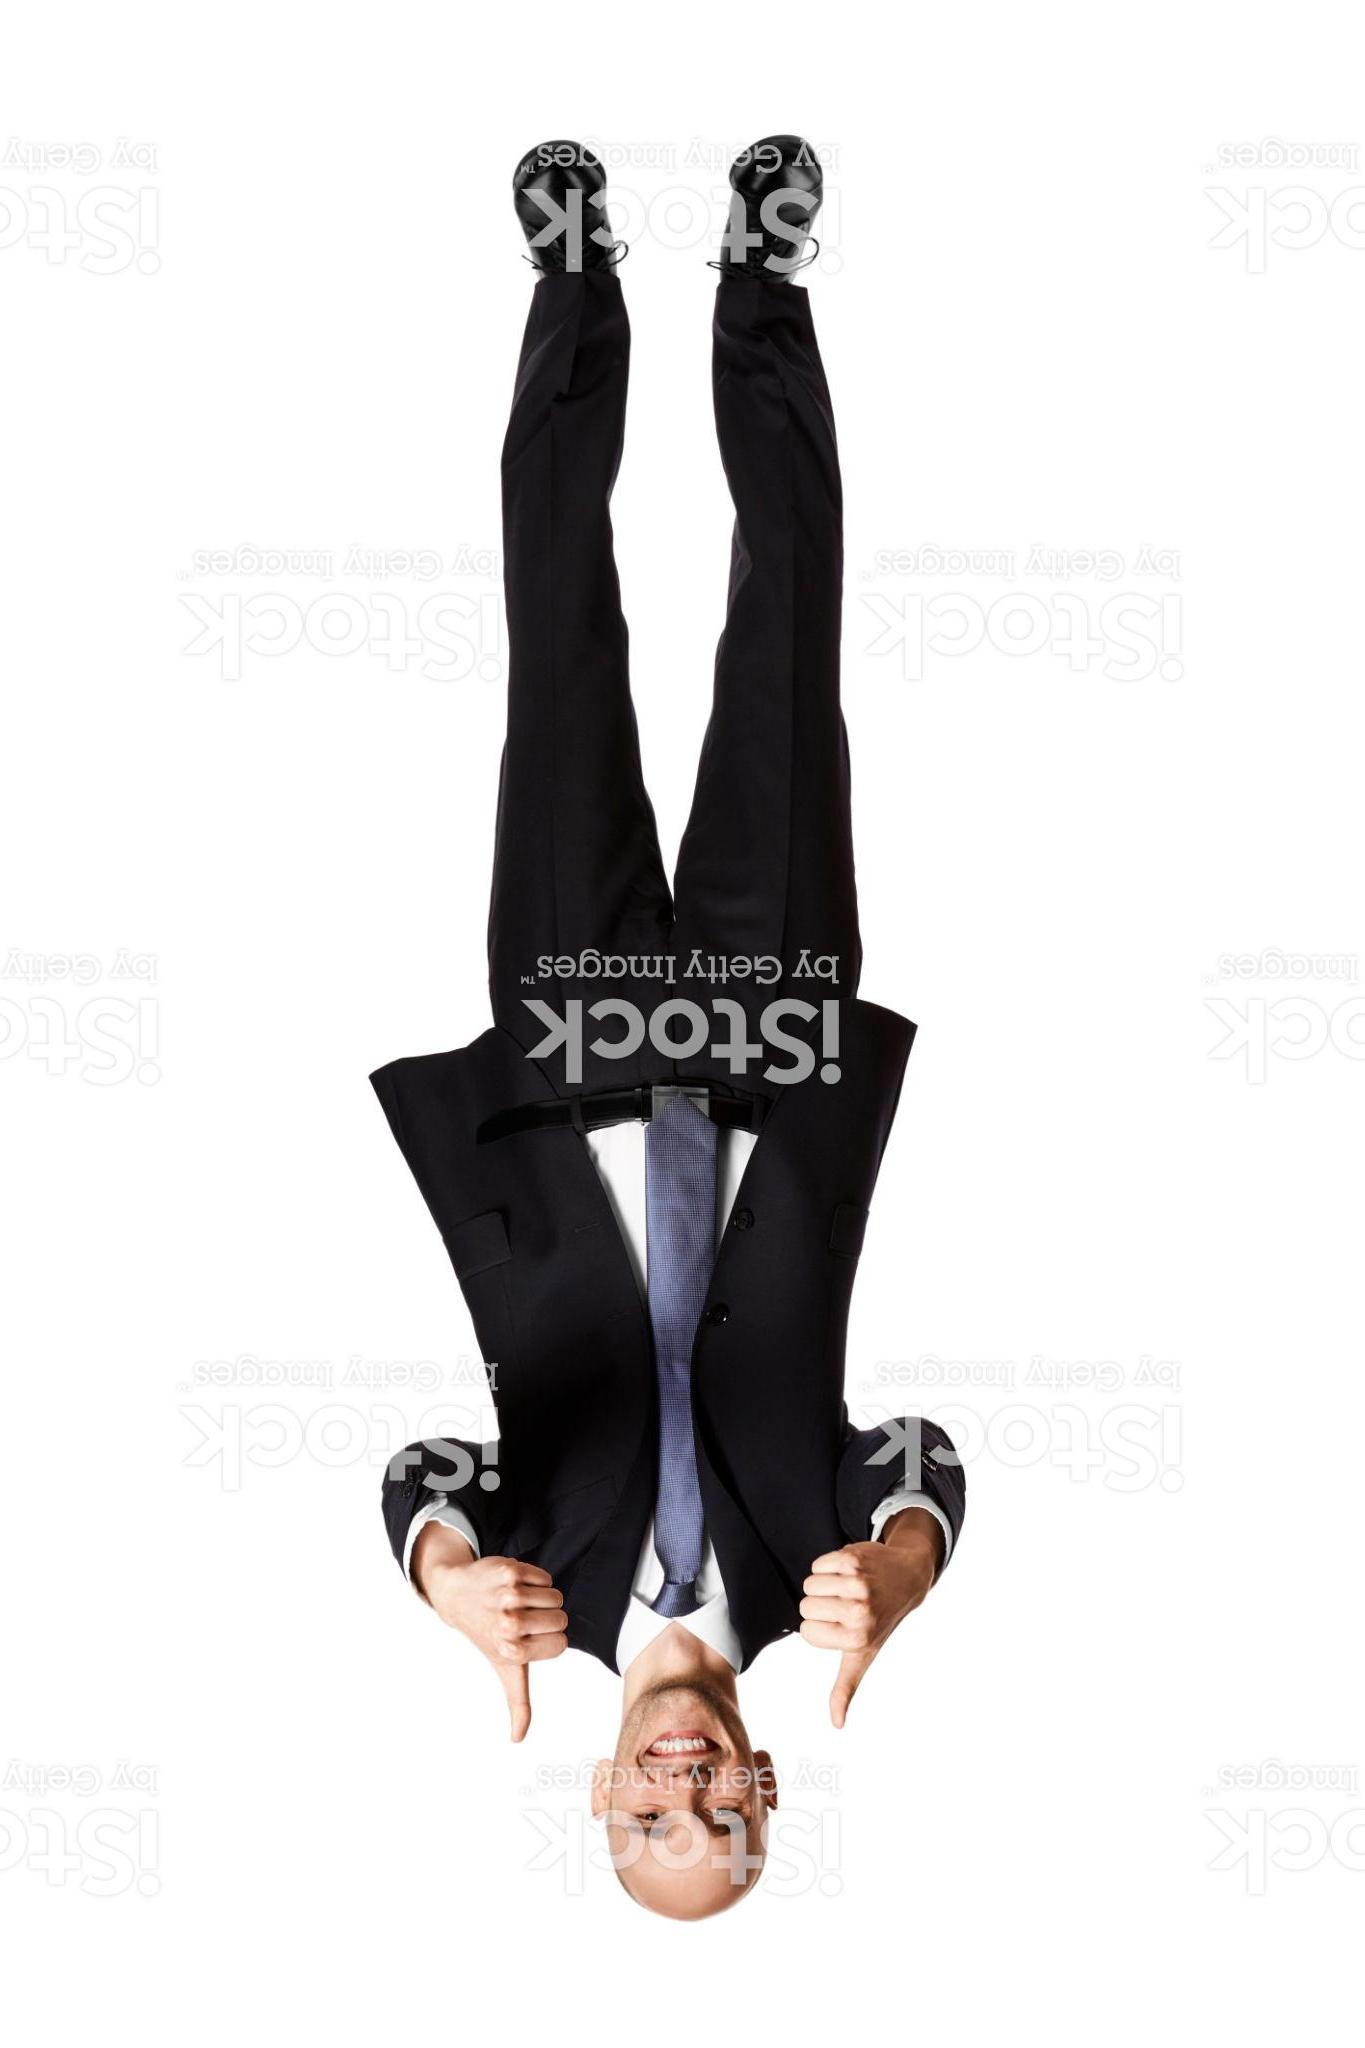thumbsdown: (797, 1541, 903, 1731), (472, 1555, 571, 1745)
